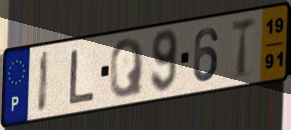6: (192, 26, 220, 84)
9: (149, 27, 179, 96)
I: (36, 49, 52, 115)
L: (67, 47, 97, 107)
Q: (109, 36, 146, 100)
T: (230, 14, 258, 81)
